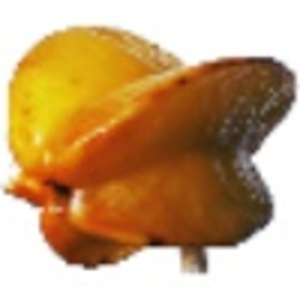carambola: (1, 24, 298, 276)
